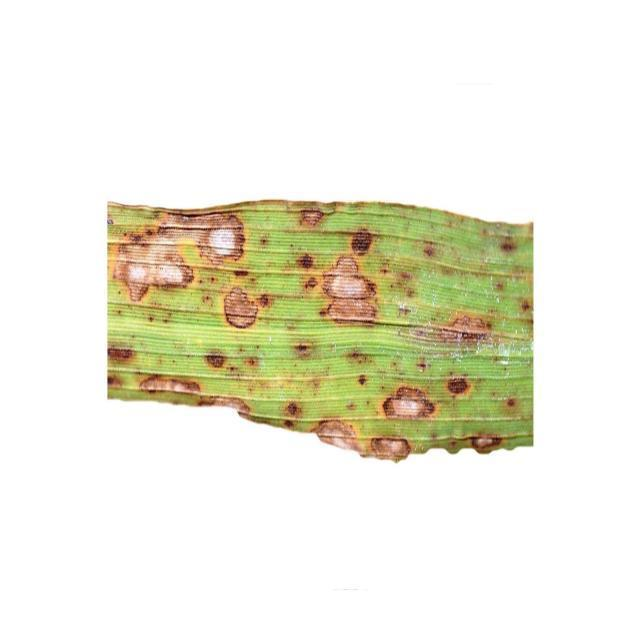Leaf_Blast: (277, 402, 528, 463), (439, 222, 533, 357), (314, 233, 390, 347), (115, 217, 191, 315), (114, 340, 241, 396), (209, 216, 253, 283)
